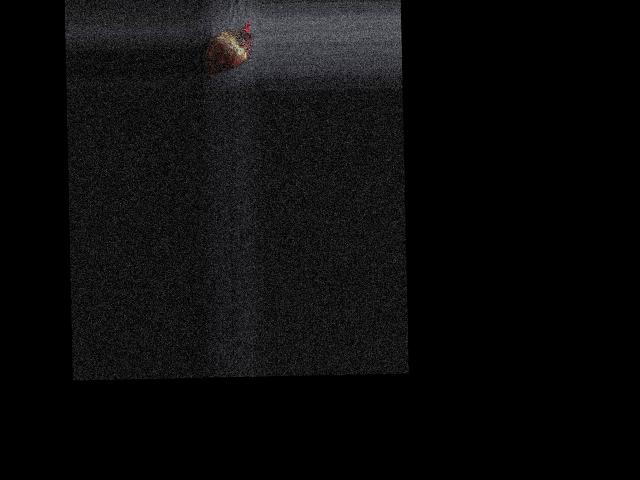beet: (204, 20, 256, 81)
